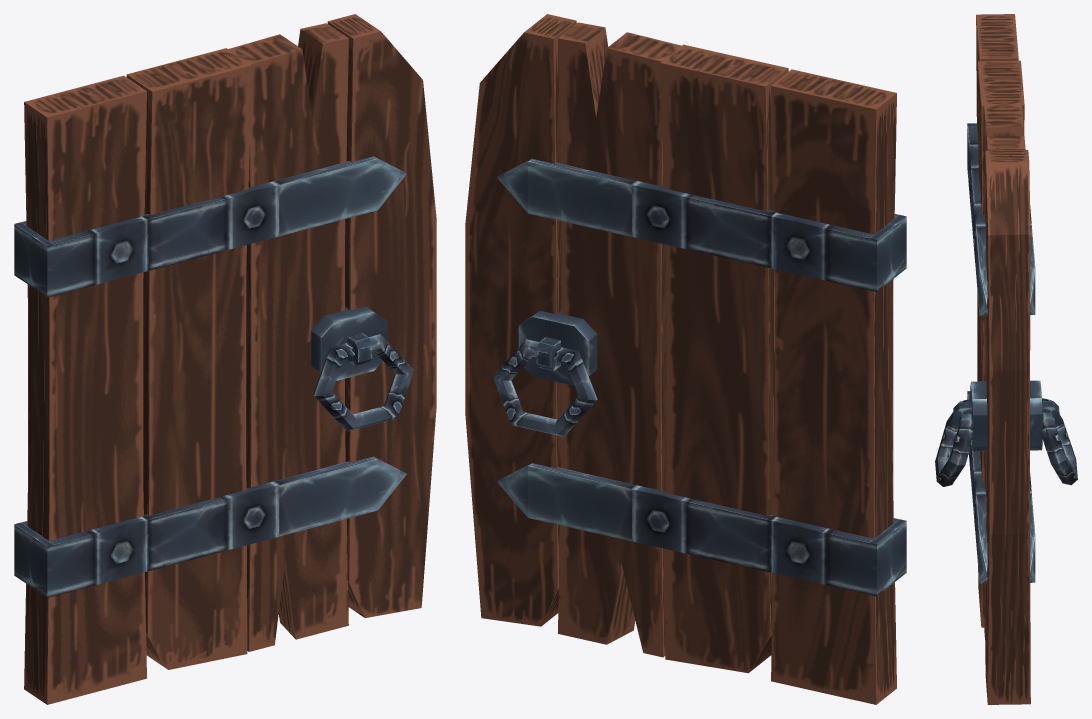
File: Stage1_door.fbx
3 views of the same model, side by side, from view 1: azimuth 30°, elevation 25°; view 2: azimuth 150°, elevation 25°; view 3: azimuth 270°, elevation 25° (orthographic). The views are drawn at different scales.
Parts seen in each view (by area): view 1: Wood_door; view 2: Wood_door; view 3: Wood_door.
Boxes of the visible parts, x1=… form: Wood_door: x1=14, y1=14, x2=436, y2=704; Wood_door: x1=465, y1=14, x2=906, y2=704; Wood_door: x1=935, y1=14, x2=1077, y2=704.
Size of the model in its own units: 125 by 174 by 42.87.
